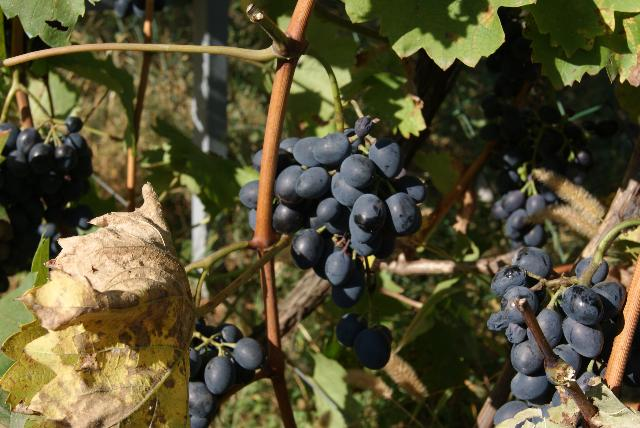grapes: (272, 116, 426, 309), (488, 219, 640, 404), (0, 119, 92, 279), (189, 325, 266, 428)
